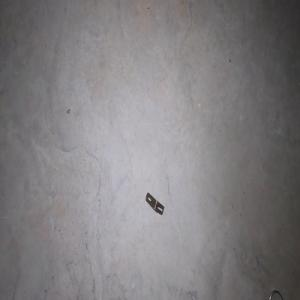MetalPart: (145, 191, 164, 216)
